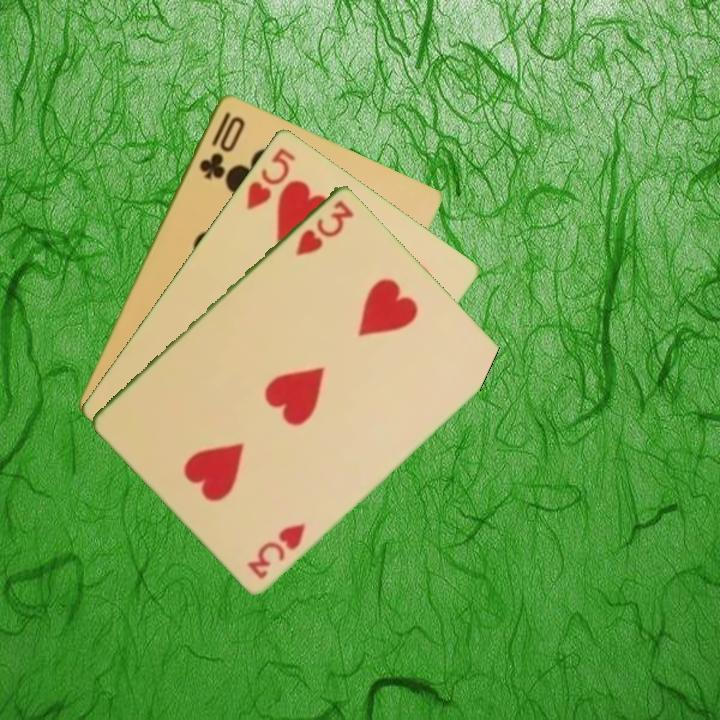10c: (195, 107, 248, 182)
3h: (291, 196, 357, 259), (243, 519, 309, 582)
5h: (242, 143, 298, 213)
